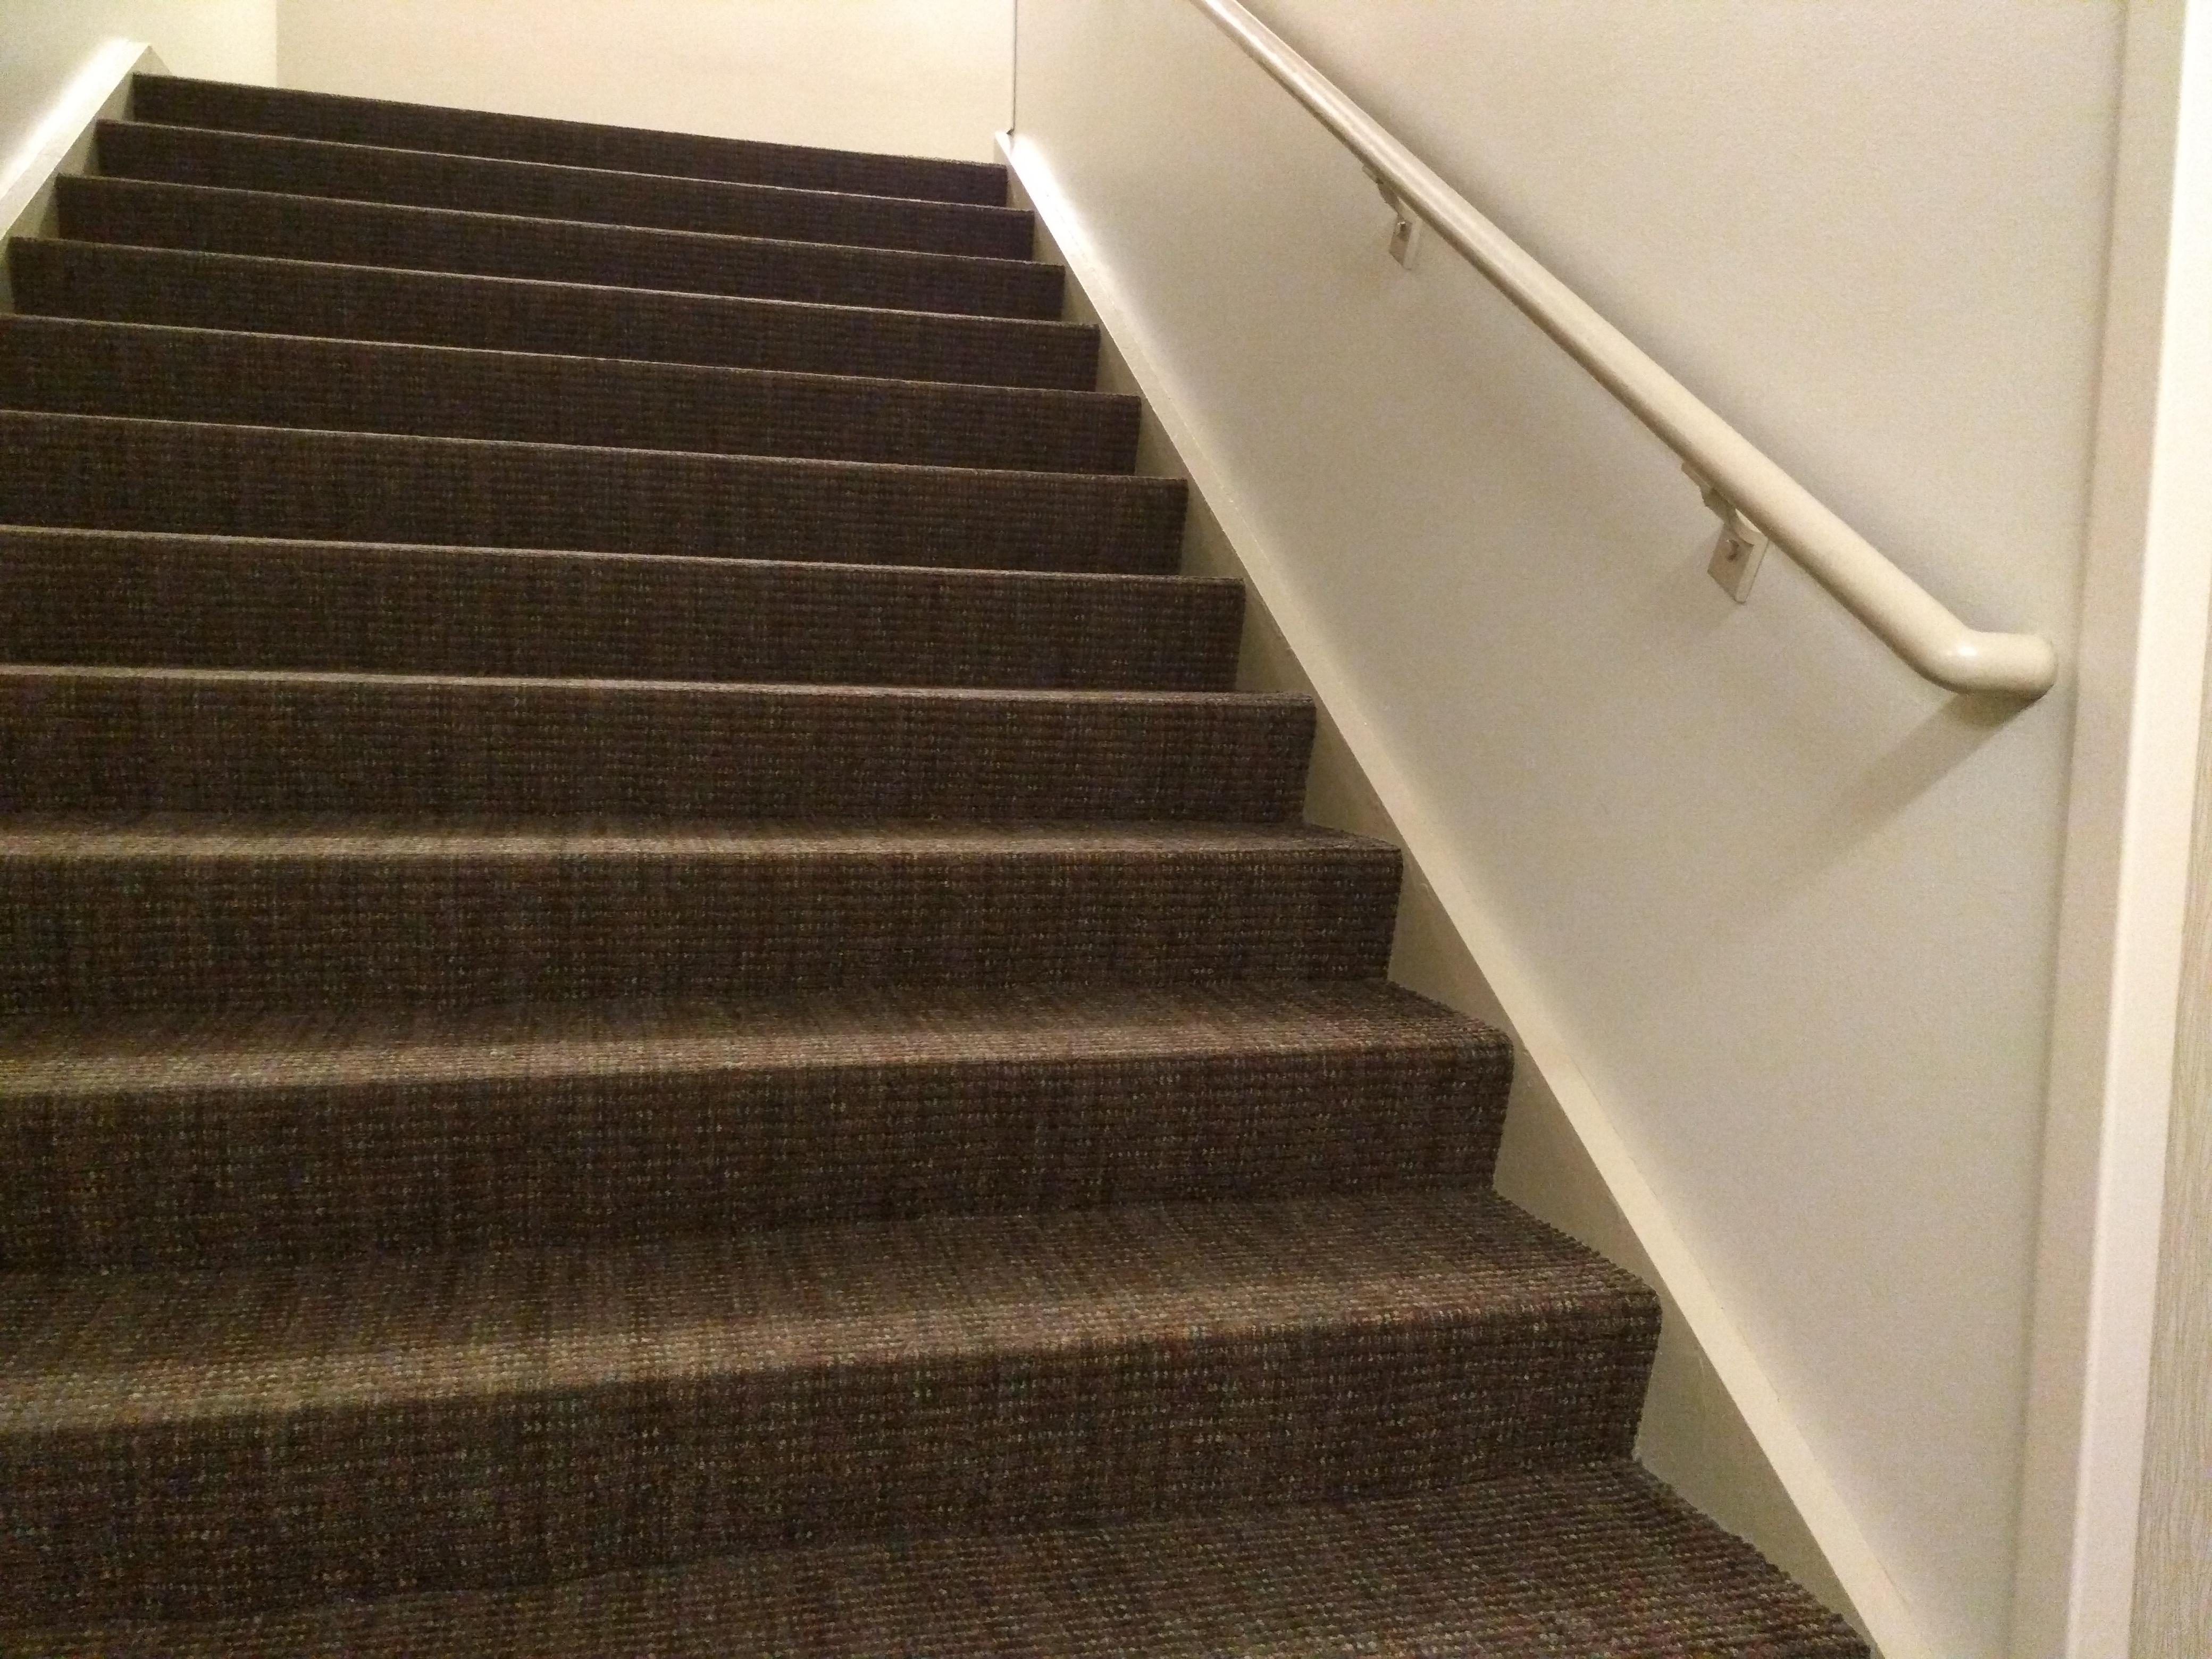stairs_up: (7, 66, 1662, 1528)
